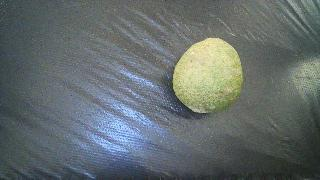DESECHO: (172, 38, 243, 113)
